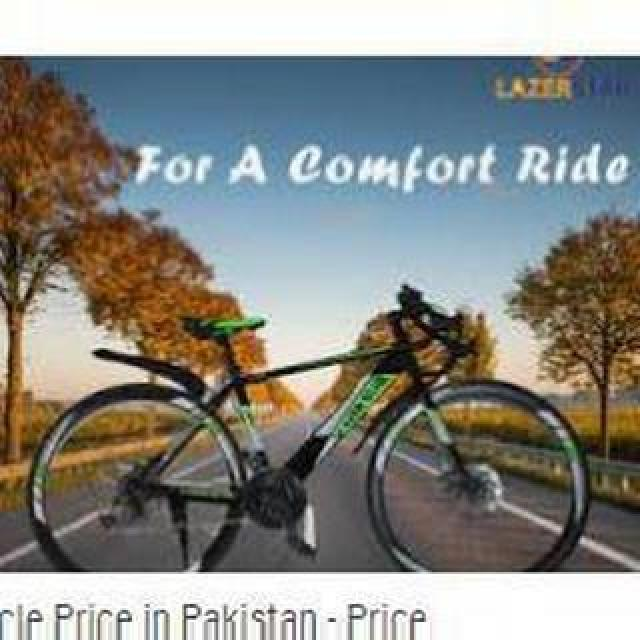Person: (26, 280, 600, 572)
